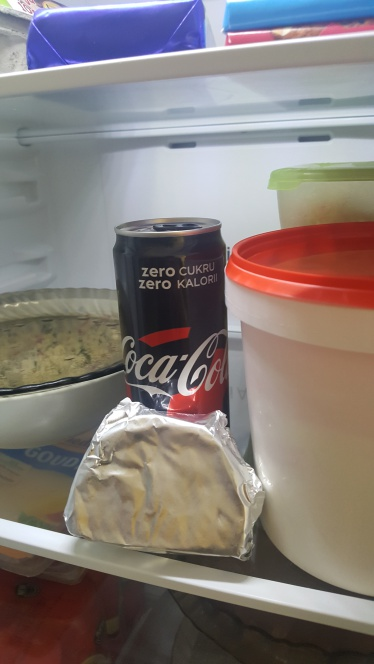colazero: (100, 211, 262, 497)
